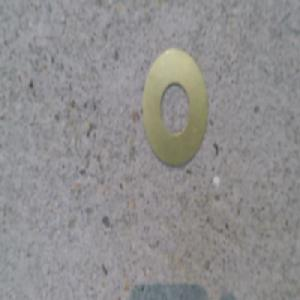Washer: (143, 49, 209, 171)
